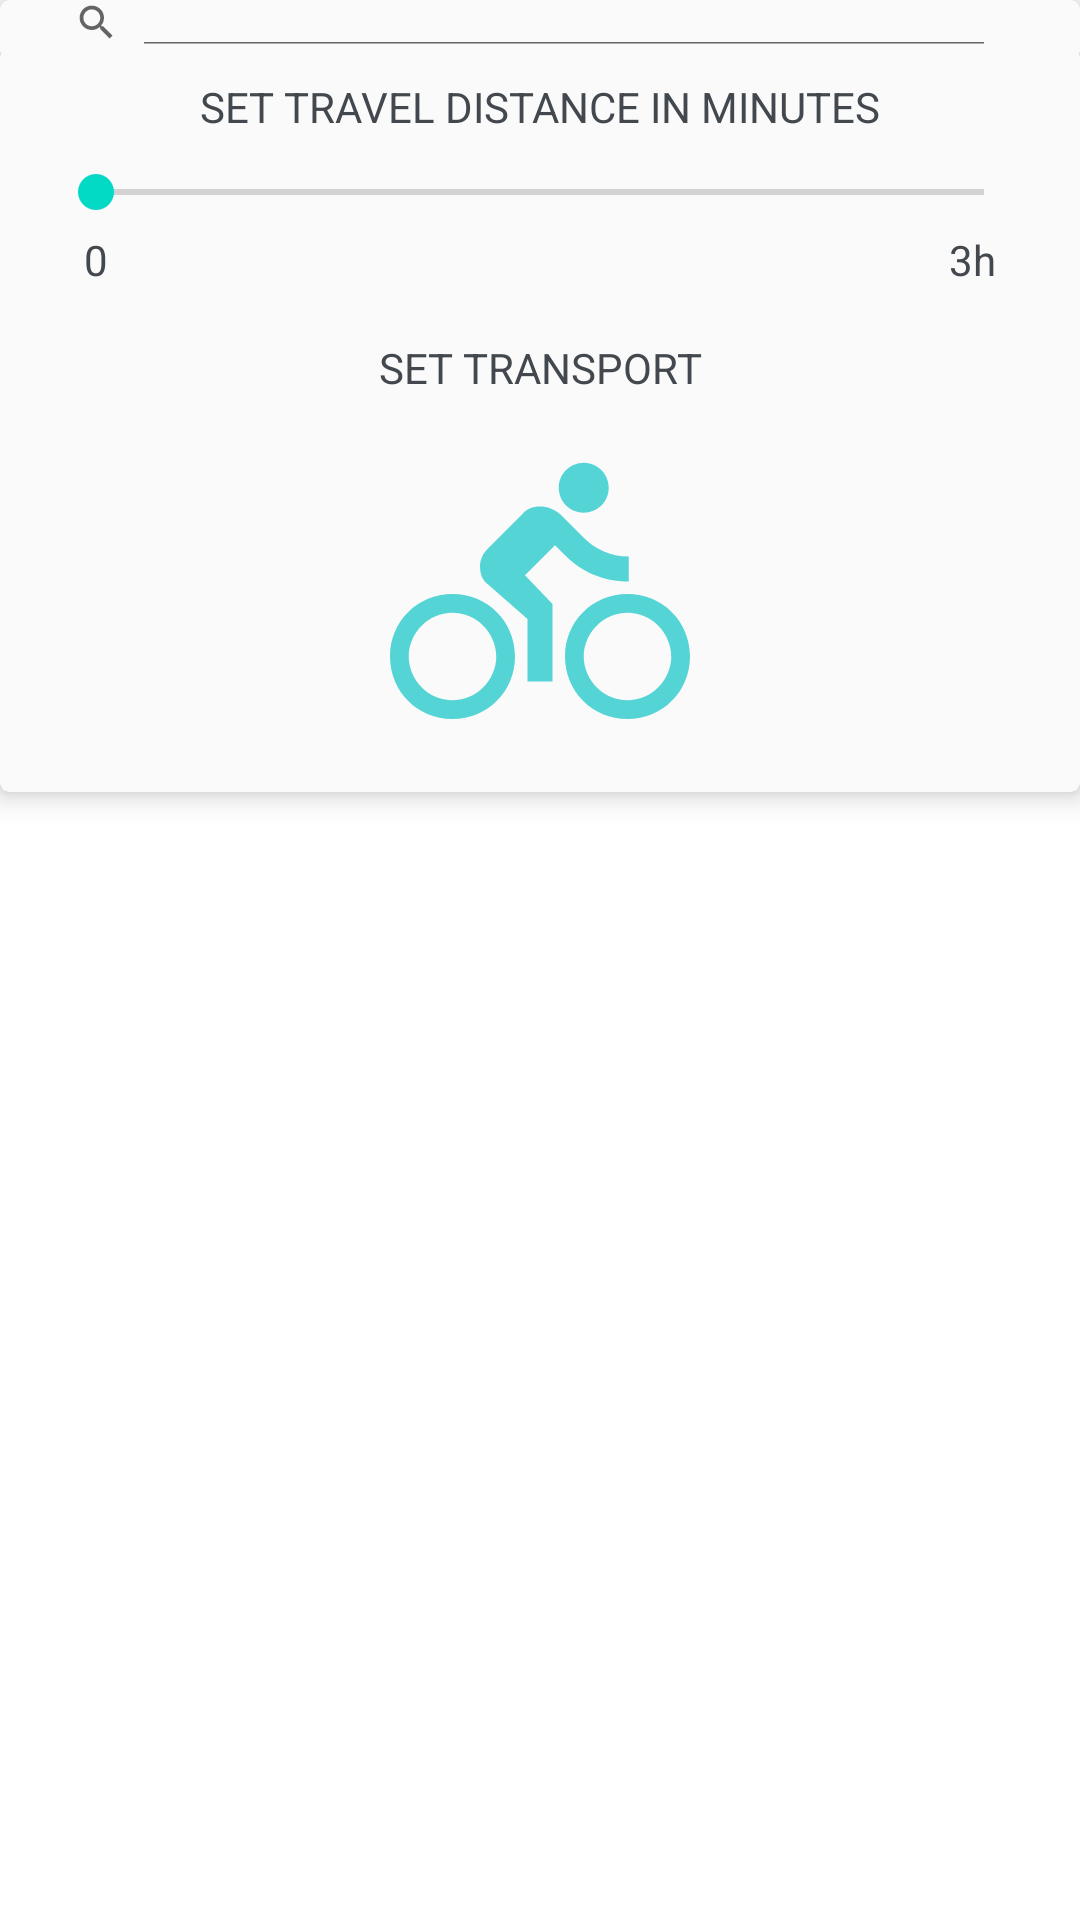

Screen size 1080*1920. Icon name, then its center in pixels as point (x, y):
set bike as transport: point (540, 590)
